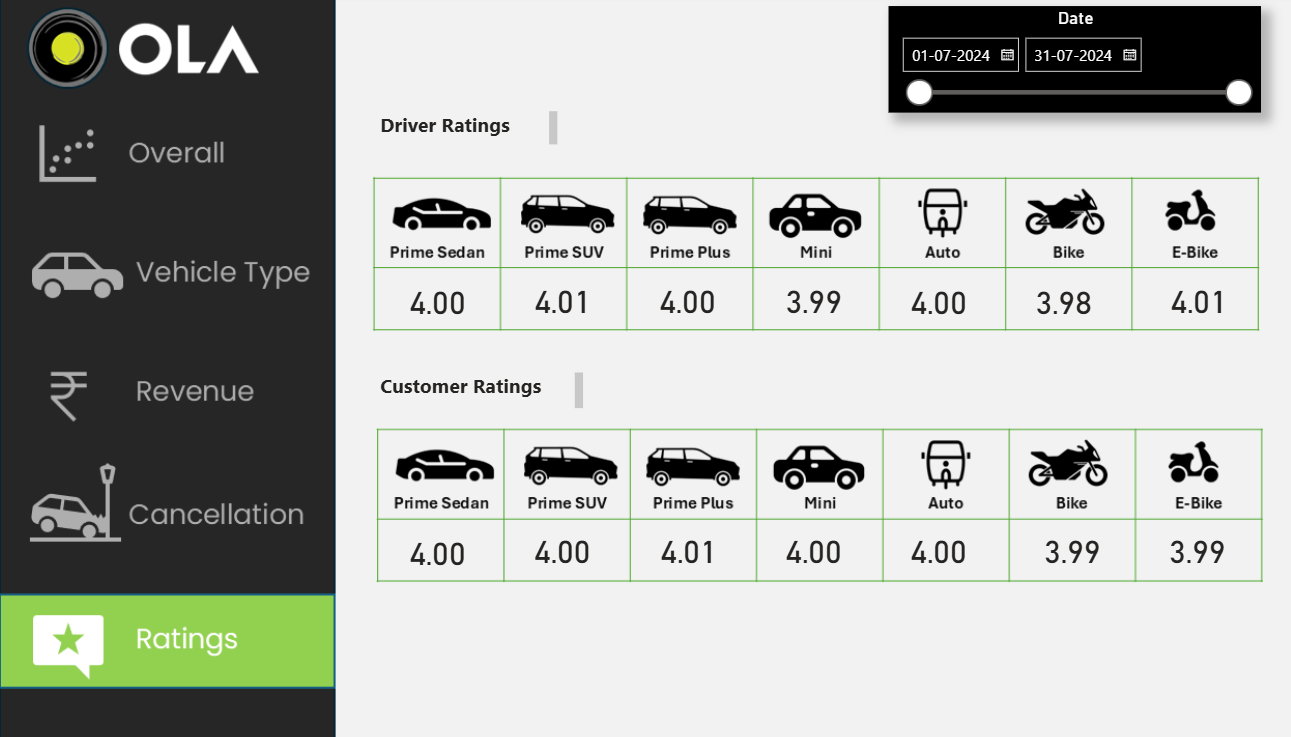

Layout of this report page (visuals, bound fields, positions):
{"tool":"powerbi","page":{"name":"Ratings","canvas":[1280,720],"ordinal":4},"visuals":[{"type":"actionButton","box":[0,107.4,324.5,91.7],"z":0},{"type":"card","fields":{"Values":["Avg(July.Driver_Ratings)"]},"box":[362.3,263.5,120.8,64.5],"z":1000},{"type":"card","fields":{"Values":["Avg(July.Driver_Ratings)"]},"box":[483,262.1,120.8,64.5],"z":2000},{"type":"card","fields":{"Values":["Avg(July.Driver_Ratings)"]},"box":[603.8,262.1,120.8,64.5],"z":3000},{"type":"card","fields":{"Values":["Avg(July.Driver_Ratings)"]},"box":[724.5,262.1,120.8,64.5],"z":4000},{"type":"card","fields":{"Values":["Avg(July.Driver_Ratings)"]},"box":[845.3,263.5,120.8,64.5],"z":5000},{"type":"card","fields":{"Values":["Avg(July.Driver_Ratings)"]},"box":[966,263.5,120.8,64.5],"z":6000},{"type":"card","fields":{"Values":["Avg(July.Driver_Ratings)"]},"box":[1096.4,262.1,120.8,64.5],"z":7000},{"type":"card","fields":{"Values":["Avg(July.Customer_Rating)"]},"box":[362.3,505,120.8,64.5],"z":8000},{"type":"textbox","box":[362.3,107,181.1,46.7],"z":9000},{"type":"textbox","box":[362.3,359.5,205.8,48],"z":9001},{"type":"card","fields":{"Values":["Avg(July.Customer_Rating)"]},"box":[482.2,503.6,120.6,65.6],"z":9002},{"type":"card","fields":{"Values":["Avg(July.Customer_Rating)"]},"box":[604.3,503.6,120.6,65.6],"z":9003},{"type":"card","fields":{"Values":["Avg(July.Customer_Rating)"]},"box":[724.8,503.6,120.6,65.6],"z":9004},{"type":"card","fields":{"Values":["Avg(July.Customer_Rating)"]},"box":[845.4,503.6,120.6,65.6],"z":9005},{"type":"card","fields":{"Values":["Avg(July.Customer_Rating)"]},"box":[975.1,503.6,120.6,65.6],"z":9006},{"type":"card","fields":{"Values":["Avg(July.Customer_Rating)"]},"box":[1095.7,503.6,120.6,65.6],"z":9007},{"type":"slicer","title":"Date","fields":{"Values":["July.Date"]},"box":[857.8,10.9,359.5,102.5],"z":9008}]}

Visuals, with their boxes in screenshot pixels (x1, y1, x2, y2), scaled from the page's 1280x720 canvas onto the 1291x737 screenshot:
actionButton: region(0, 110, 327, 204)
card - Avg(July.Driver_Ratings): region(365, 270, 487, 336)
card - Avg(July.Driver_Ratings): region(487, 268, 609, 334)
card - Avg(July.Driver_Ratings): region(609, 268, 731, 334)
card - Avg(July.Driver_Ratings): region(731, 268, 853, 334)
card - Avg(July.Driver_Ratings): region(853, 270, 974, 336)
card - Avg(July.Driver_Ratings): region(974, 270, 1096, 336)
card - Avg(July.Driver_Ratings): region(1106, 268, 1228, 334)
card - Avg(July.Customer_Rating): region(365, 517, 487, 583)
textbox: region(365, 110, 548, 157)
textbox: region(365, 368, 573, 417)
card - Avg(July.Customer_Rating): region(486, 515, 608, 583)
card - Avg(July.Customer_Rating): region(609, 515, 731, 583)
card - Avg(July.Customer_Rating): region(731, 515, 853, 583)
card - Avg(July.Customer_Rating): region(853, 515, 974, 583)
card - Avg(July.Customer_Rating): region(983, 515, 1105, 583)
card - Avg(July.Customer_Rating): region(1105, 515, 1227, 583)
"Date" slicer: region(865, 11, 1228, 116)
